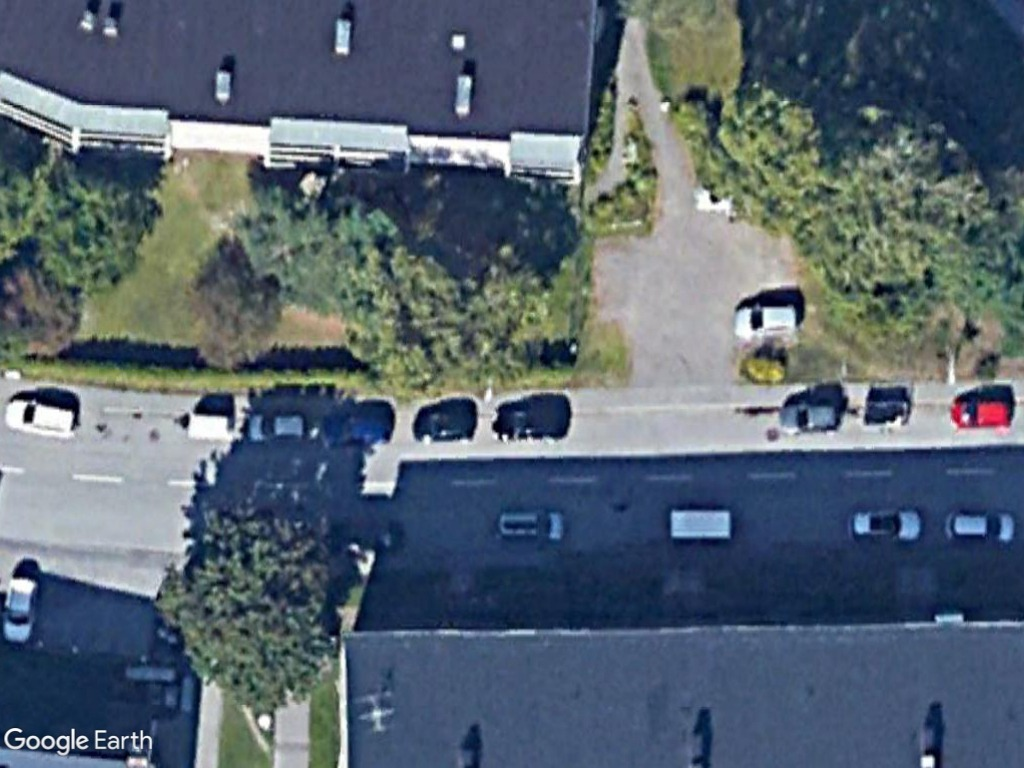car: (1, 391, 90, 445), (840, 505, 926, 550), (489, 398, 569, 445), (936, 504, 1021, 547), (728, 298, 804, 345), (0, 565, 41, 650), (238, 405, 315, 447), (407, 405, 484, 447), (943, 392, 1019, 434), (773, 396, 847, 439)
